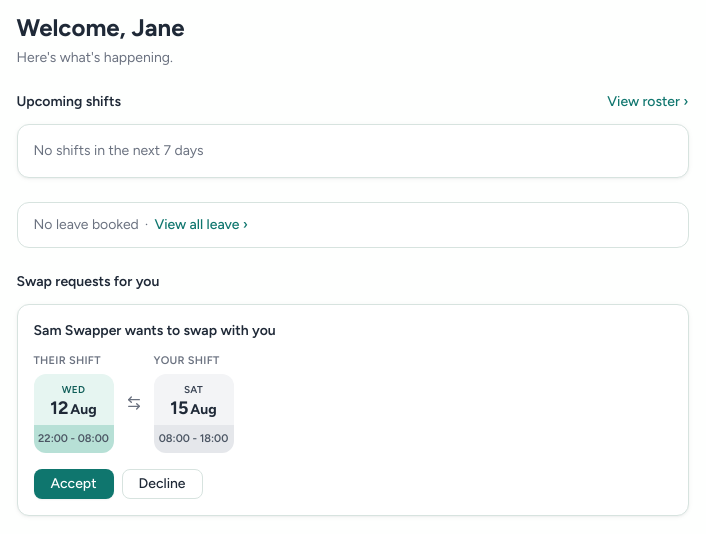
it: DashboardPage › doctor: shows an incoming swap with both shifts, and accepting hands it to an admin
The width and height of the screenshot is (706, 534).
Expected: the text "Sam Swapper wants to swap with you" is shown, [34,322,276,339]
Expected: the text "Their shift" is shown, [34,354,101,367]
Click the button "Accept". click: (74, 484)
box: [34,469,114,499]
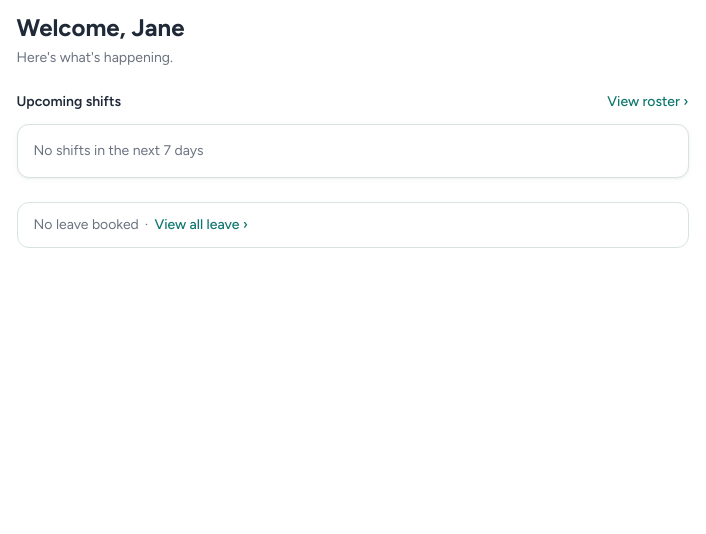
Result: the text "Sam Swapper wants to swap with you" is gone
